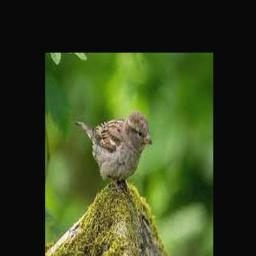Sparrow: (75, 109, 153, 191)
